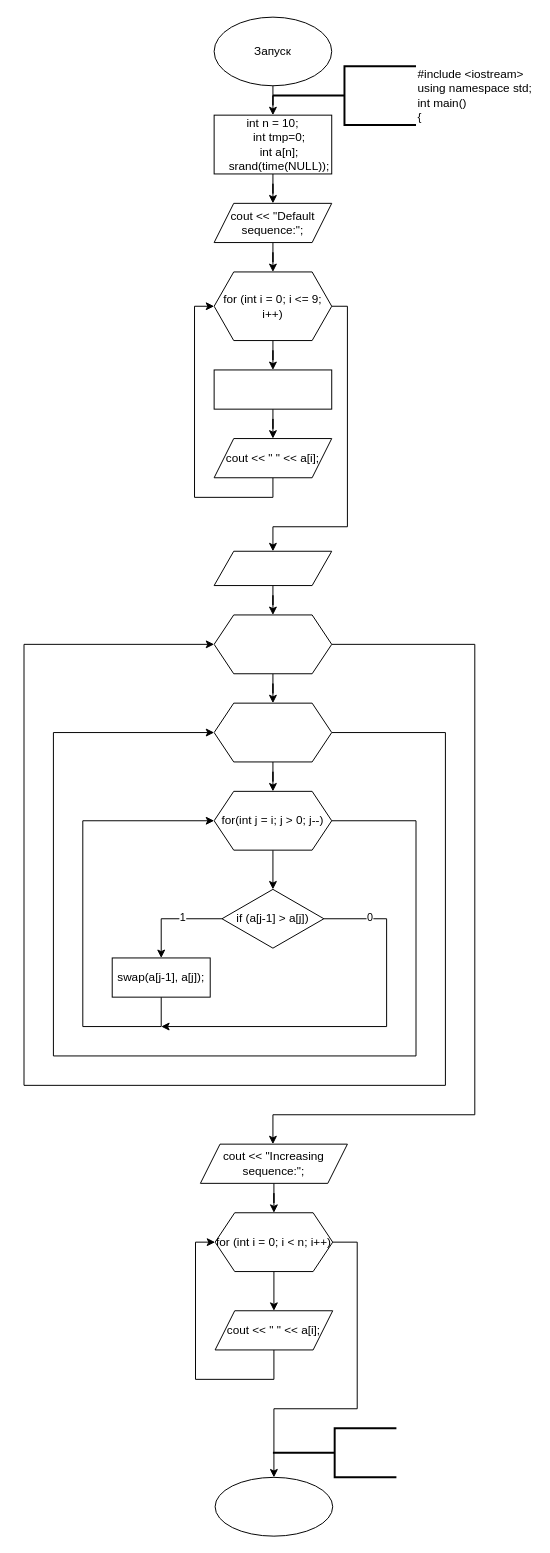
Image size: 550x1553. Some labels were removed from this diagram. Each missing label, with the centre of its shape:
"a[i] = rand() % 101;" goes at point 272,389.
"cout << endl;" goes at point 272,568.
"for (int i = 0; i < n - 1; i++)" goes at point 272,644.
"for(int i = 1; i < n; i++)" goes at point 272,732.
"return 0; }" goes at point 334,1452.
"Конец" goes at point 273,1506.
